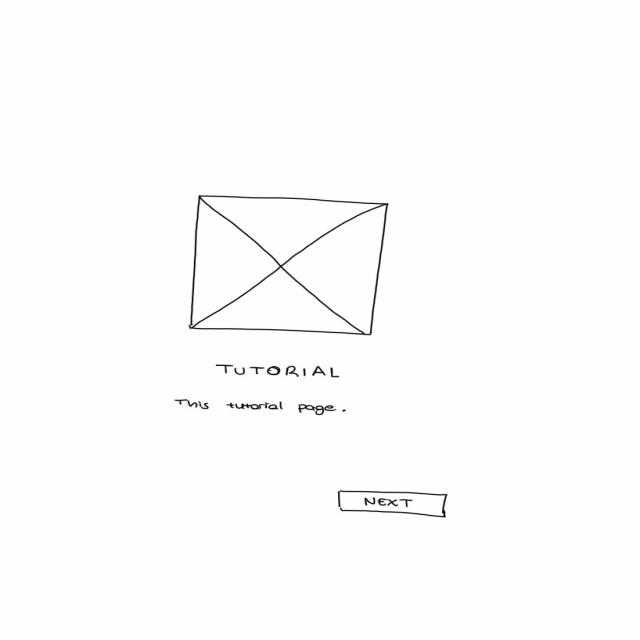button: (338, 490, 452, 519)
image: (189, 194, 391, 338)
label: (174, 399, 350, 417), (216, 363, 344, 382)
